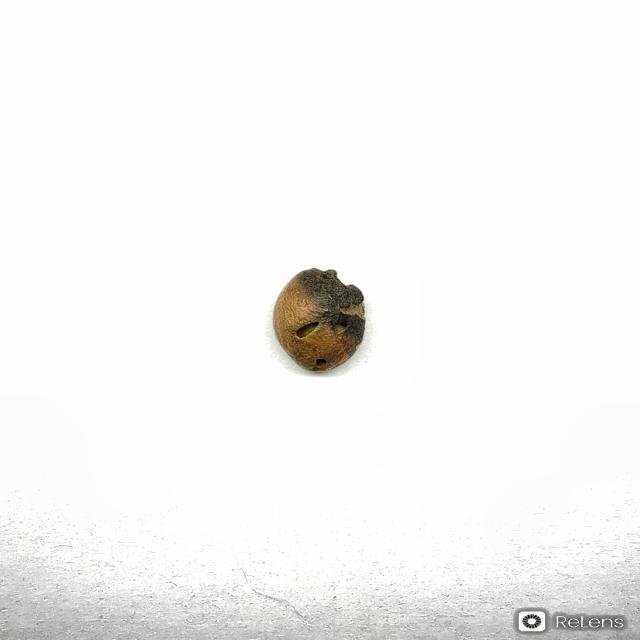Insect damage: (271, 267, 366, 372)
